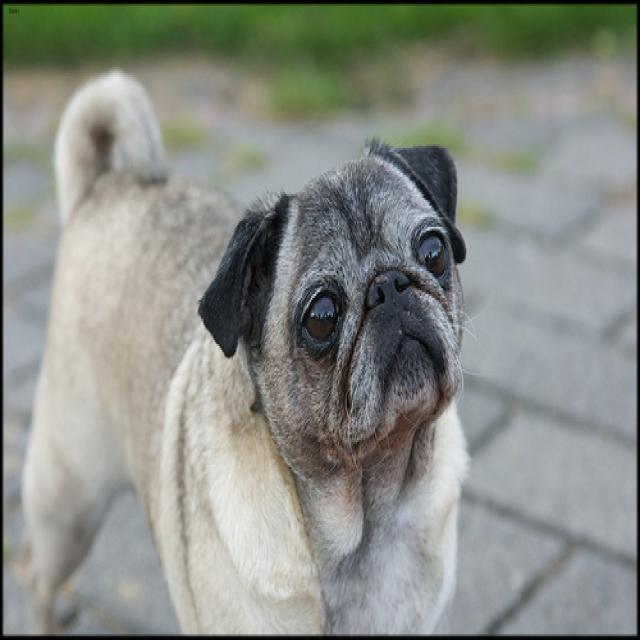dog-pug: (3, 62, 477, 636)
